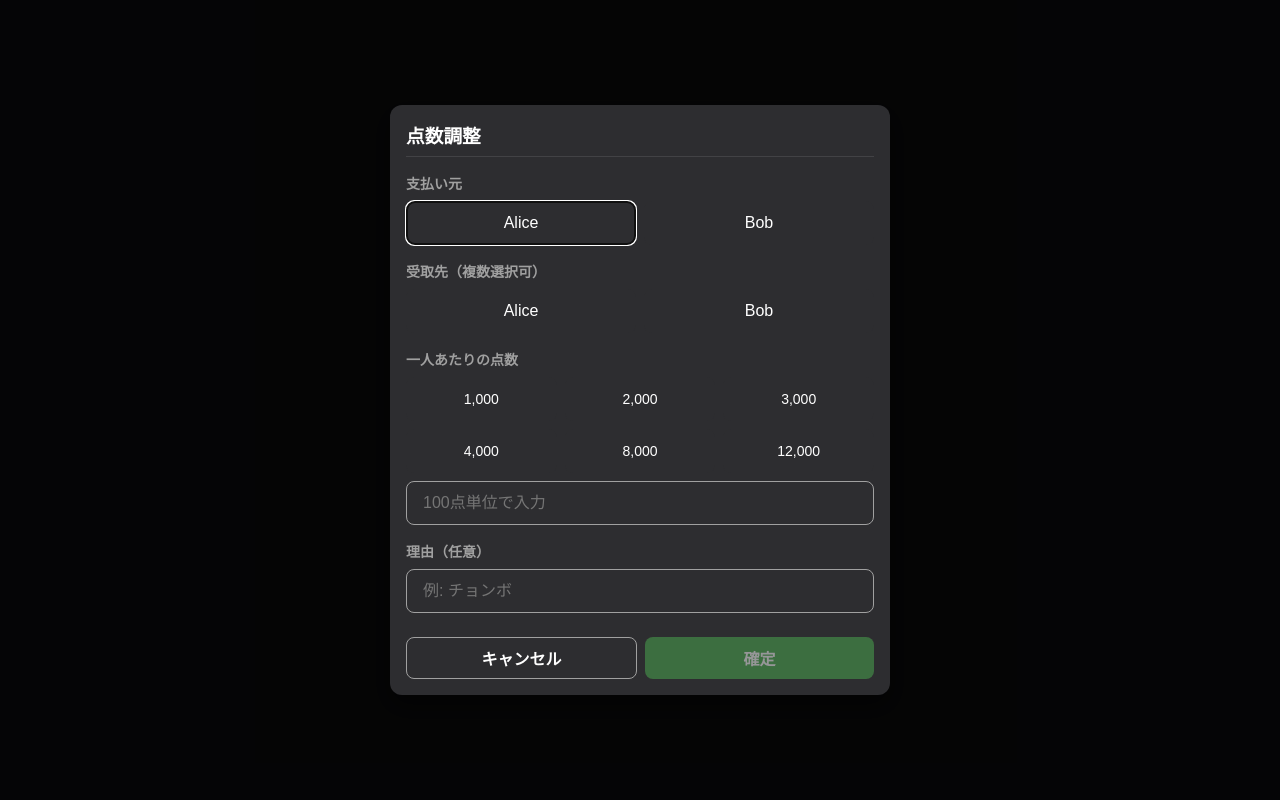
Test case: AdjustmentModal › does not allow an amount outside 100-point increments
Step 1. Click the button "Alice" below "支払い元" → (521, 223), box [406, 201, 636, 245]
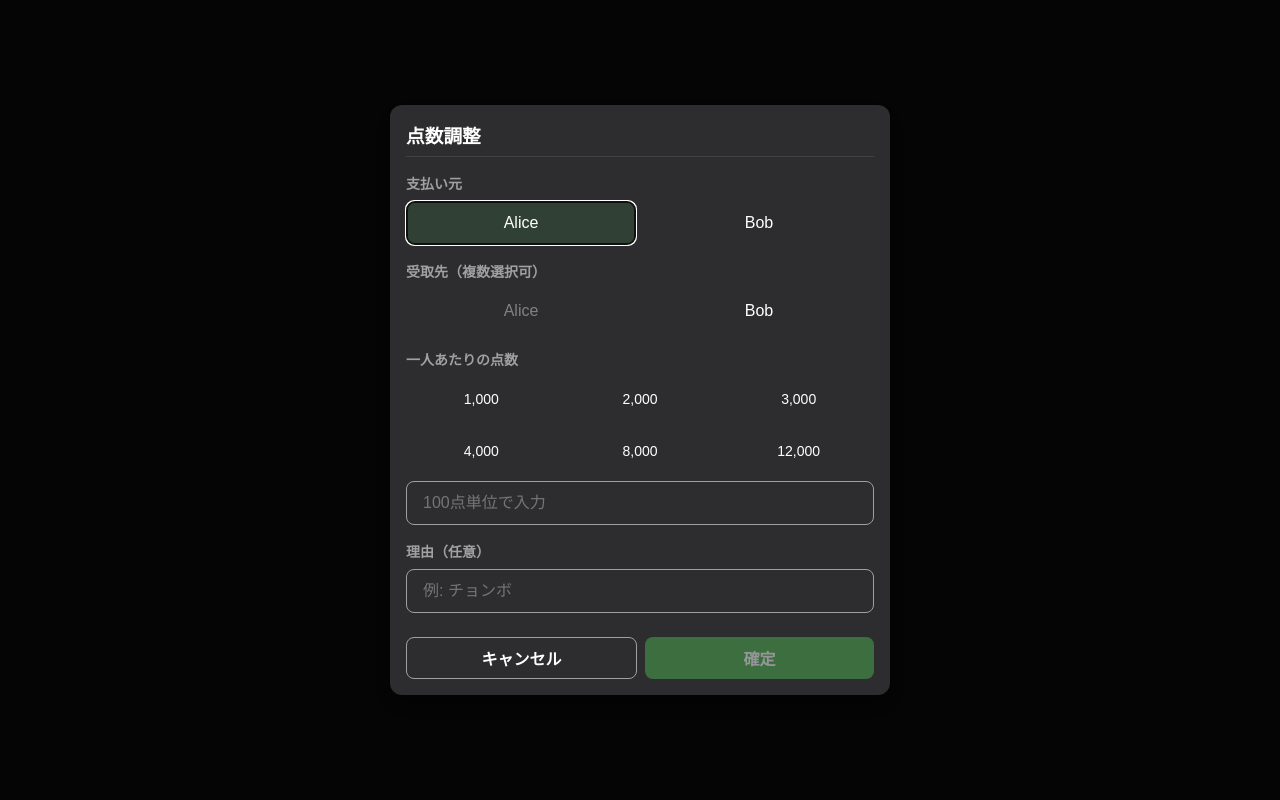
Step 2. Click the button "Bob" below "受取先（複数選択可）" → (759, 311), box [644, 289, 874, 333]
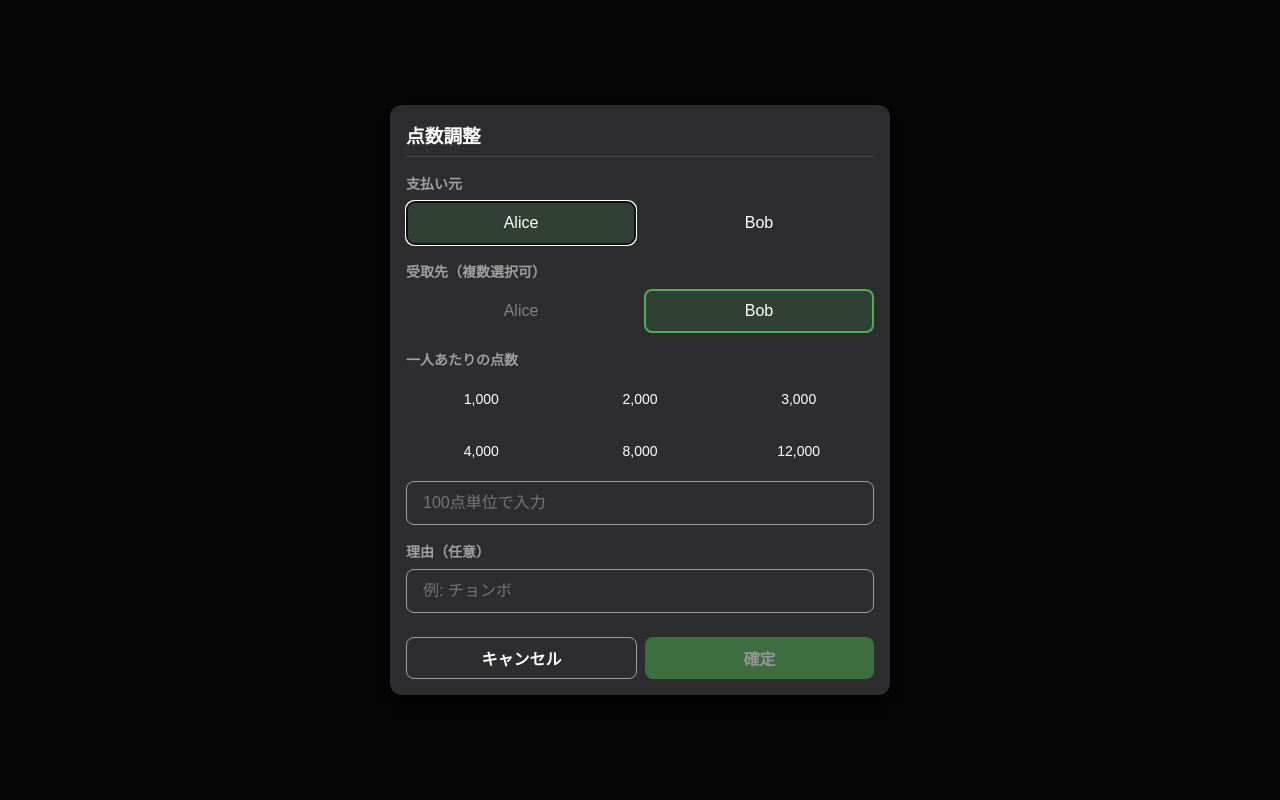
Step 3. Type "150" into the number field labelled "一人あたりの点数" → (640, 503), box [406, 481, 874, 525]
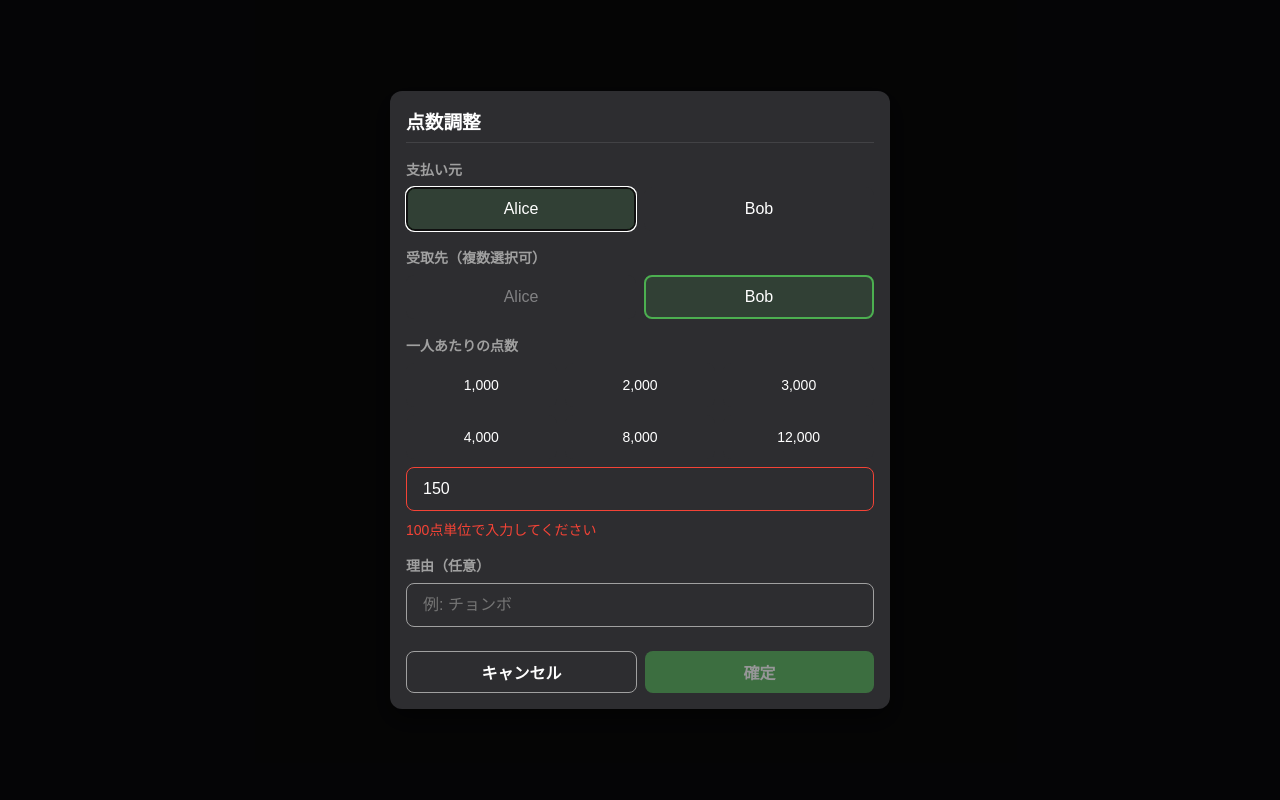
Expected: the button "確定" is disabled, [645, 651, 874, 693]
Result: the text "100点単位で入力してください" is shown at [406, 522, 596, 538]
Step 4. Click the button "1,000" → (481, 385), box [406, 363, 557, 407]
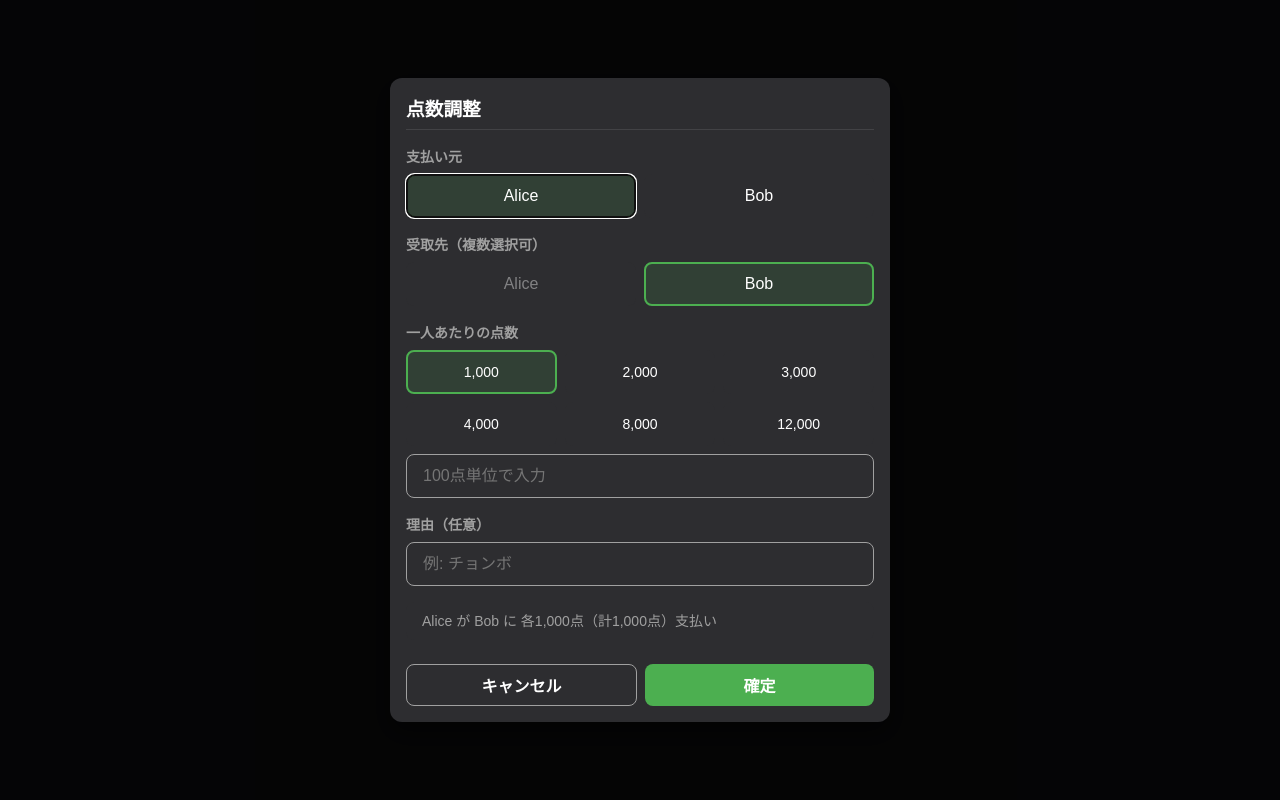
Result: the text "100点単位で入力してください" is gone
Result: the number field labelled "一人あたりの点数" is empty at [406, 454, 874, 498]
